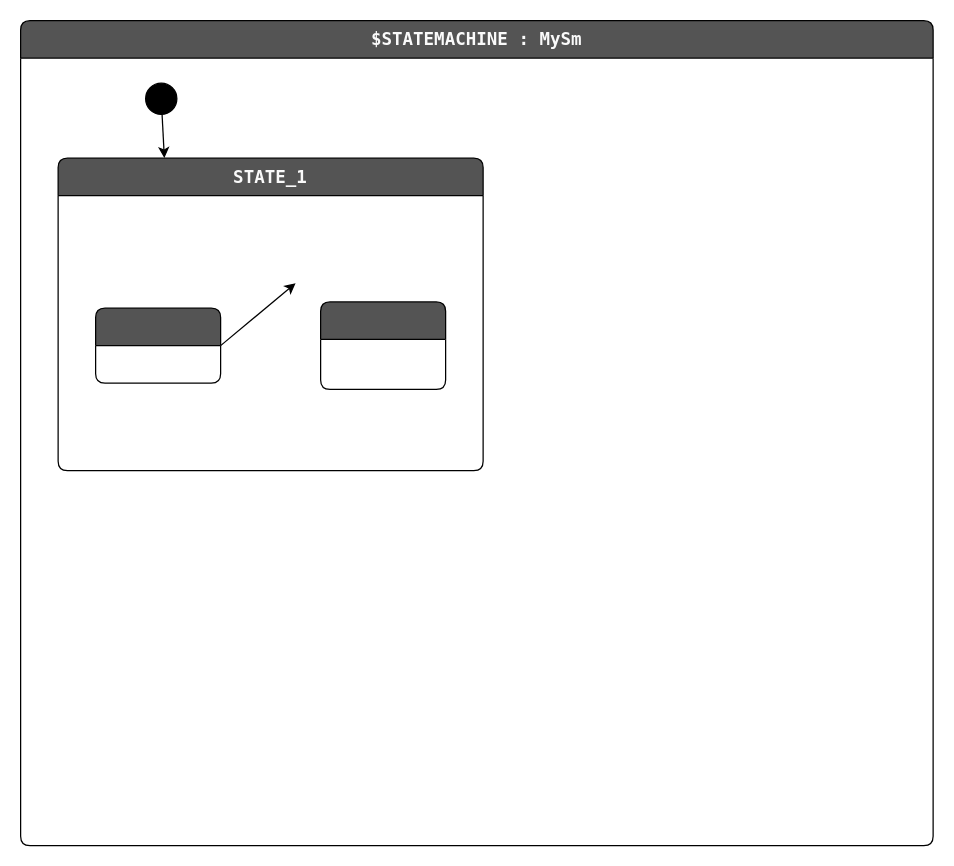
The diagram is 954 pixels wide and 866 high, and some of its shapes have lost their labels. Each missing label, with the centre of its shape:
"S1" belongs at [157,345].
"S2" belongs at [382,345].
